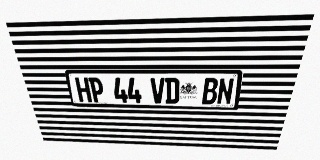4: (112, 77, 128, 103), (126, 78, 142, 103)
B: (202, 78, 219, 104)
D: (165, 78, 179, 104)
H: (75, 77, 92, 102)
N: (216, 78, 235, 105)
P: (88, 77, 105, 102)
V: (150, 78, 165, 103)
